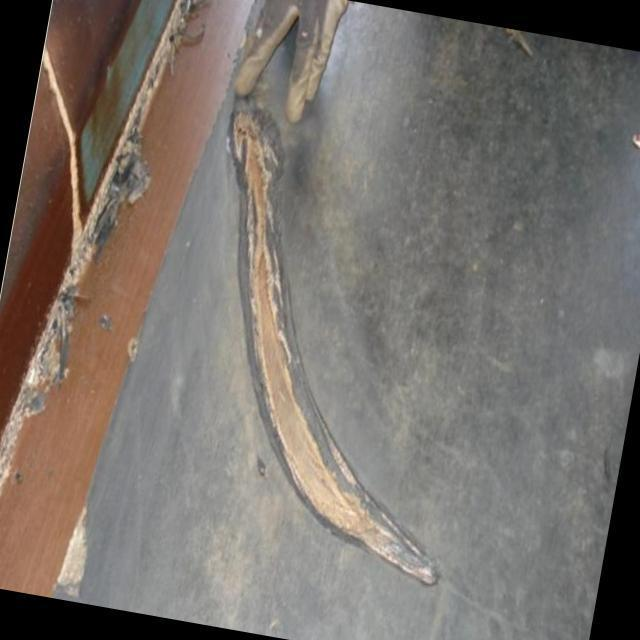Wear: (224, 102, 443, 590)
